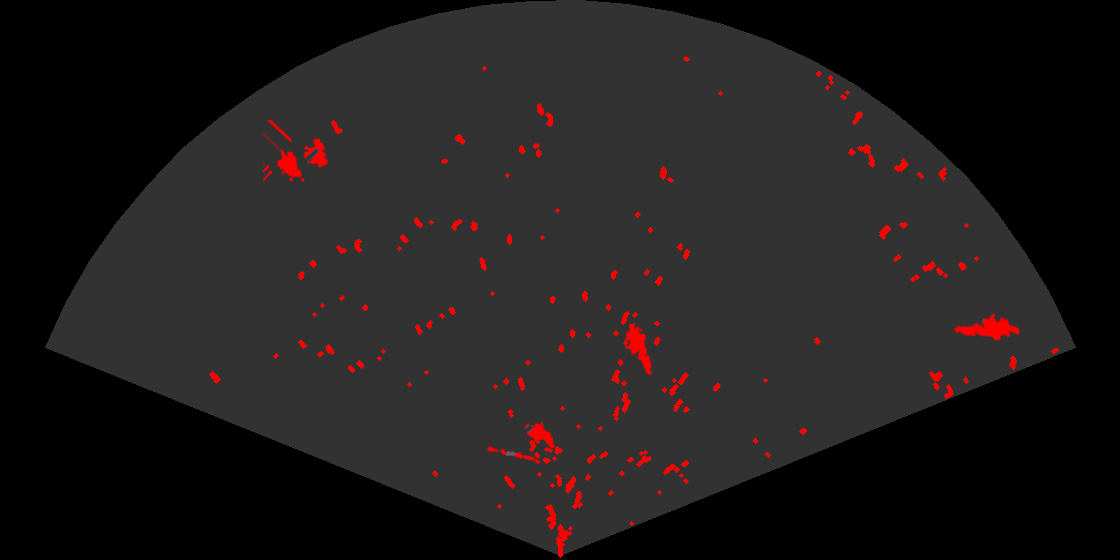AUV: (523, 421, 557, 450)
cage: (263, 120, 330, 184)
chain: (486, 444, 543, 466)
frogman: (952, 312, 1019, 342), (623, 324, 654, 375)
